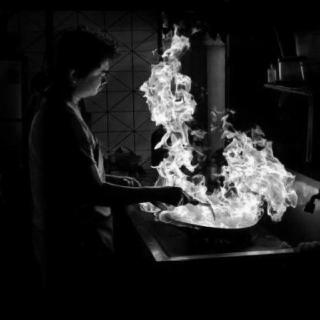Fire: (131, 15, 305, 237)
